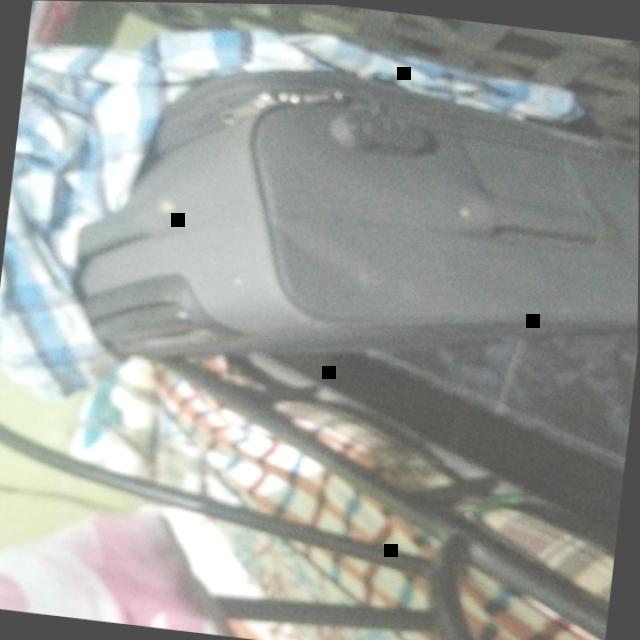luggage: (74, 70, 639, 360)
